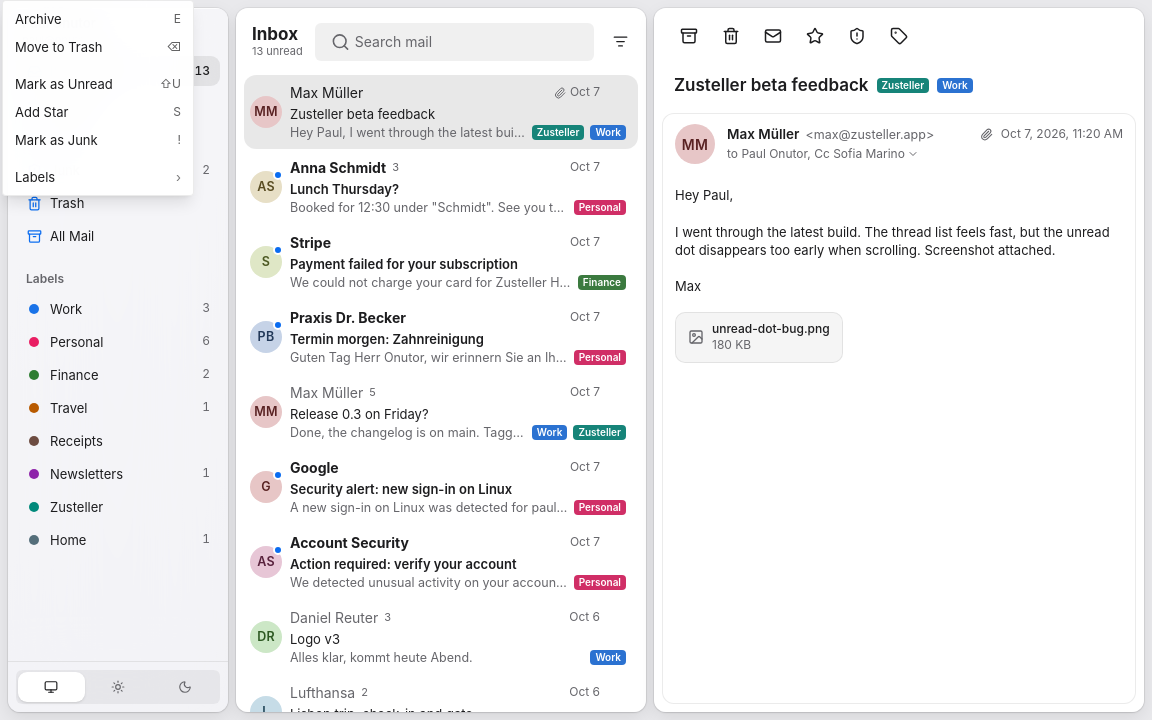
Test: context menu › closes on outside click
Click the element that starts with "Zusteller beta feedback". click: (899, 360)
box: [654,8,1144,712]
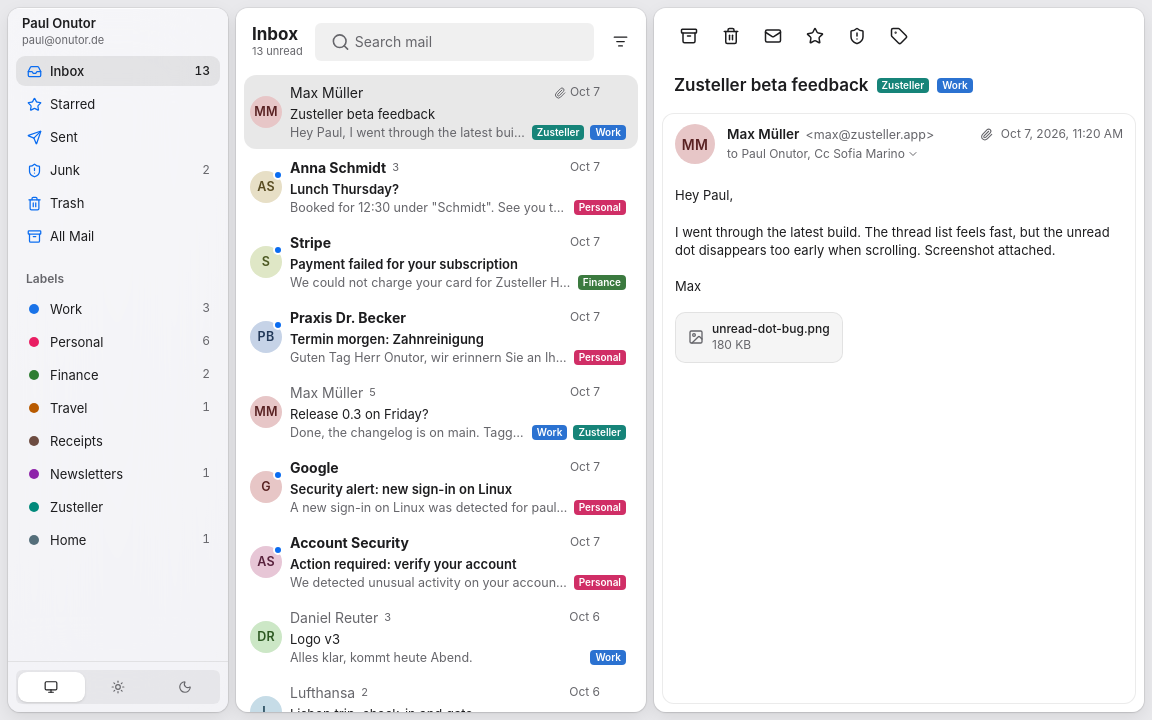
Expected: the menu is gone
